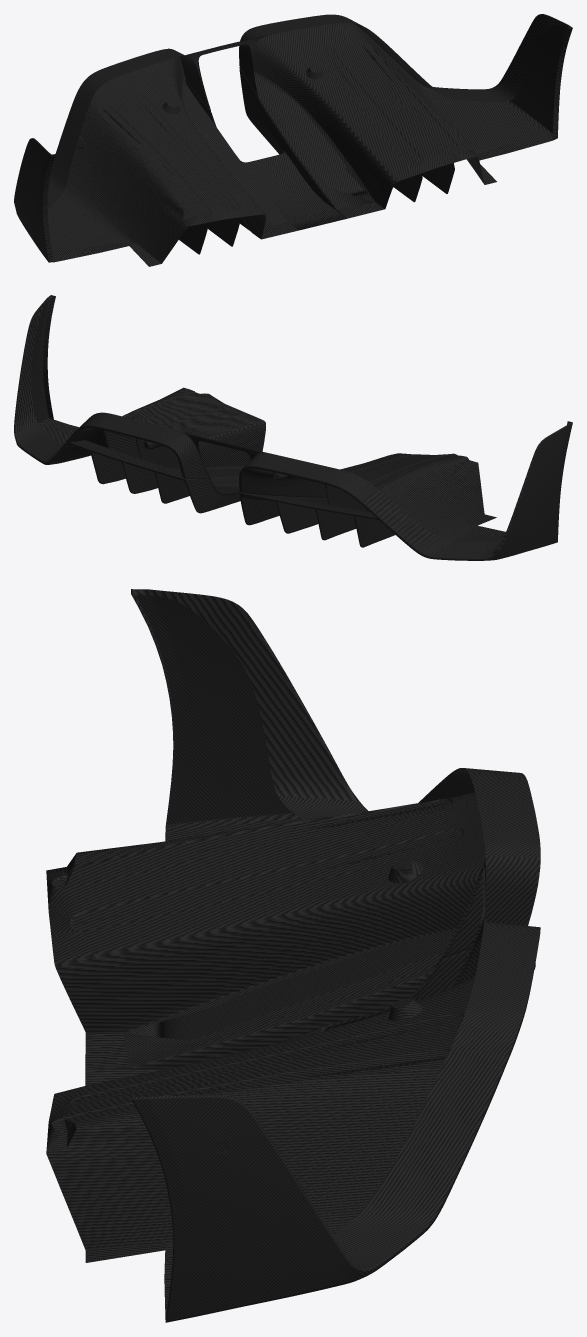
File: bumper_r.glb
3 renders of one model, top to bottom at view 1: azimuth 30°, elevation 25°; view 2: azimuth 150°, elevation 25°; view 3: azimuth 270°, elevation 25°, orthographic. The views are drawn at different scales.
Parts seen in each view (by area): view 1: amgprojone_bumper_R.004_amgprojone_carbon_0; view 2: amgprojone_bumper_R.004_amgprojone_carbon_0; view 3: amgprojone_bumper_R.004_amgprojone_carbon_0.
Part boxes in pixels (x1,y1,x2,y2): amgprojone_bumper_R.004_amgprojone_carbon_0: [14, 14, 572, 266]; amgprojone_bumper_R.004_amgprojone_carbon_0: [14, 295, 572, 560]; amgprojone_bumper_R.004_amgprojone_carbon_0: [46, 589, 540, 1322].
Size of the model in its own units: 1.84 by 0.4202 by 0.7529.
1 material, 1 textured.
